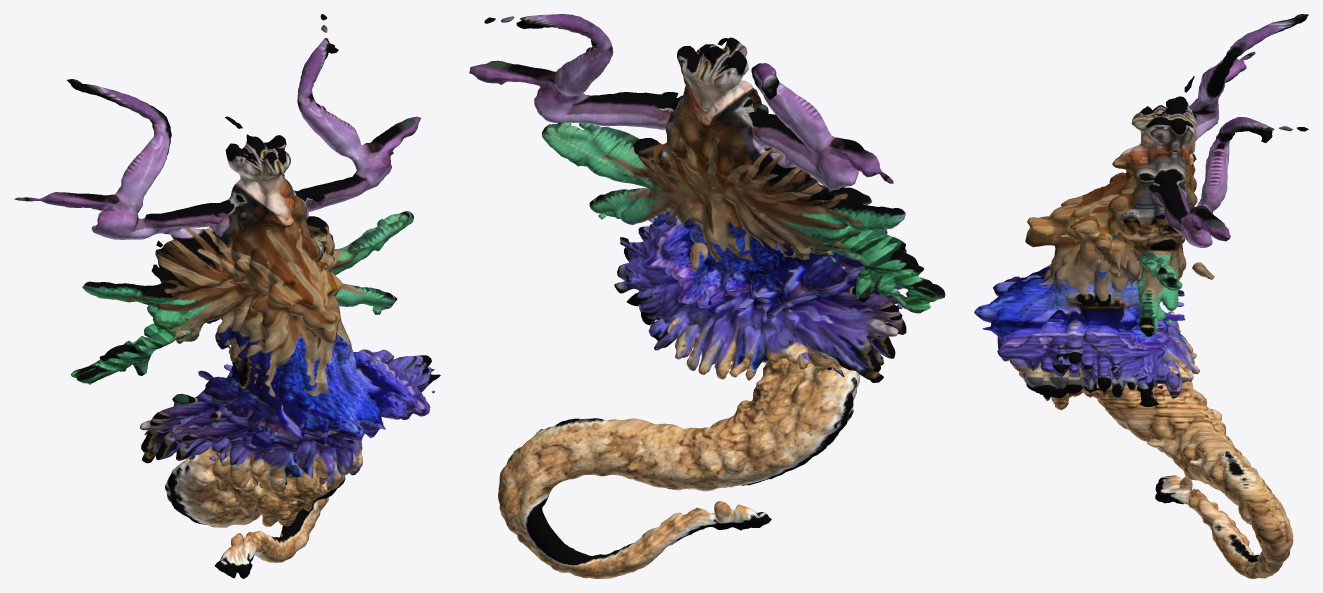
3 renders of one model, left to right at view 1: azimuth 30°, elevation 25°; view 2: azimuth 150°, elevation 25°; view 3: azimuth 270°, elevation 25°, orthographic. The views are drawn at different scales.
Parts seen in each view (by area): view 1: geometry_0; view 2: geometry_0; view 3: geometry_0.
Boxes of the visible parts, x1,y1,x2,y2 form: geometry_0: (14,14,440,578); geometry_0: (469,14,945,578); geometry_0: (974,14,1308,578).
Bounding box in the file's own units: 0.8213 × 1.01 × 0.6398.
1 material, 1 textured.
